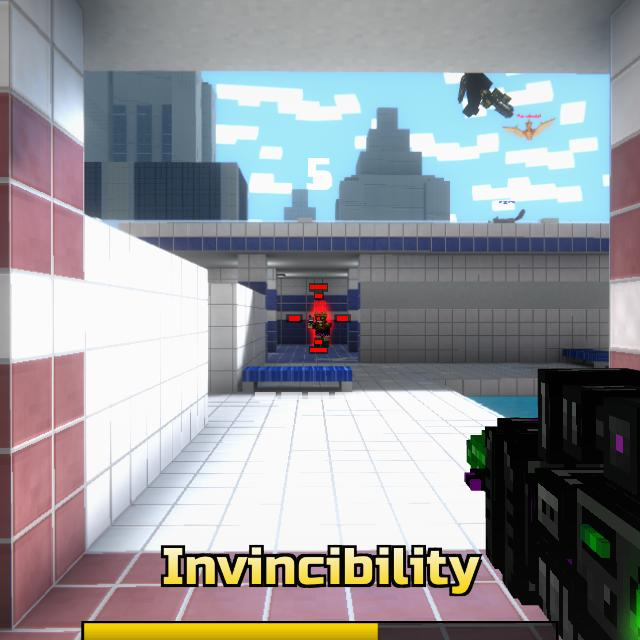Enemy: (308, 311, 332, 348)
